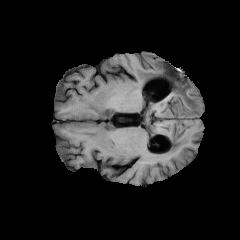glioma: (129, 64, 200, 152)
